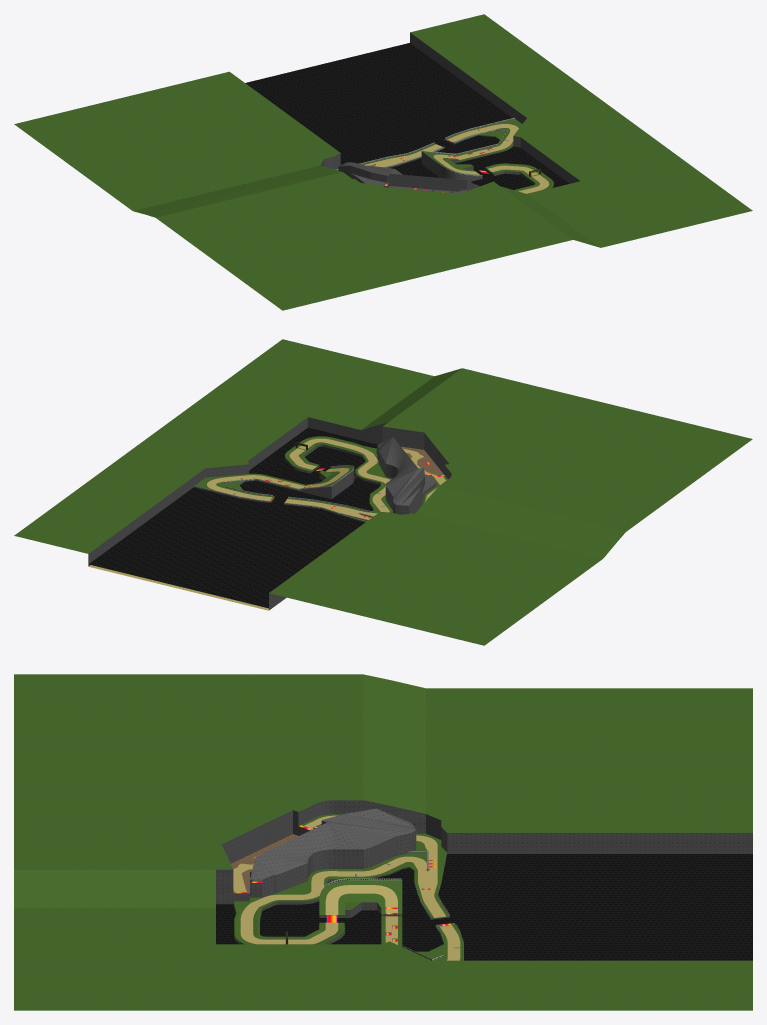
3 views of the same model, one above another, from view 1: azimuth 30°, elevation 25°; view 2: azimuth 150°, elevation 25°; view 3: azimuth 270°, elevation 25° (orthographic). The views are drawn at different scales.
Visible parts, largest first — view 1: Track-SKP-grass_normal, Track-SKP-8_w, Track-SKP-gxy_rock, Track-SKP-pc_suna03, Track-SKP-gxy_fencing; view 2: Track-SKP-grass_normal, Track-SKP-8_w, Track-SKP-gxy_rock, Track-SKP-pc_suna03, Track-SKP-gxy_fencing; view 3: Track-SKP-grass_normal, Track-SKP-8_w, Track-SKP-gxy_rock, Track-SKP-pc_suna03, Track-SKP-gxy_mud.
Part boxes in pixels (x1,y1,x2,y2): Track-SKP-grass_normal: (14,14,752,310); Track-SKP-8_w: (245,43,569,189); Track-SKP-gxy_rock: (320,32,580,193); Track-SKP-pc_suna03: (364,124,549,193); Track-SKP-gxy_fencing: (335,117,514,192); Track-SKP-grass_normal: (14,339,752,645); Track-SKP-8_w: (89,427,380,608); Track-SKP-gxy_rock: (88,417,451,610); Track-SKP-pc_suna03: (88,438,446,610); Track-SKP-gxy_fencing: (193,465,370,520); Track-SKP-grass_normal: (14,674,752,1010); Track-SKP-8_w: (216,854,752,960); Track-SKP-gxy_rock: (216,800,752,944); Track-SKP-pc_suna03: (233,815,460,960); Track-SKP-gxy_mud: (231,834,297,893).
Size of the model in its own units: 206829 by 11618 by 204585.
Materials: 13 (13 with a texture image).
